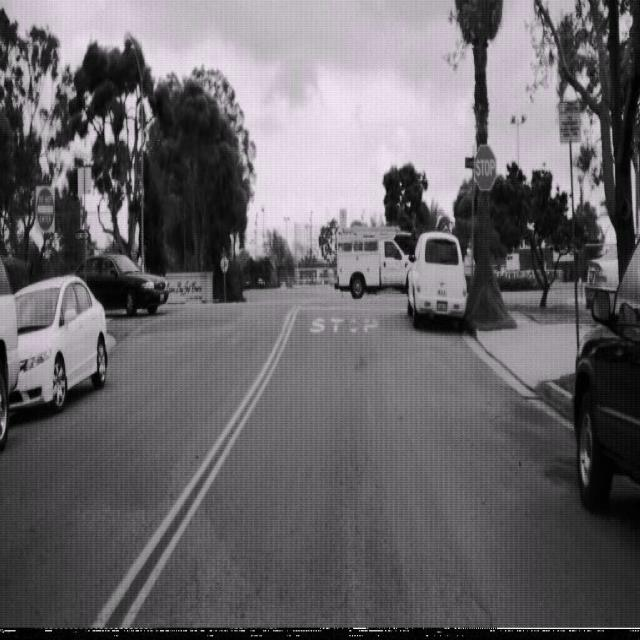doNotEnter: (35, 184, 55, 232)
stop: (473, 142, 497, 191)
